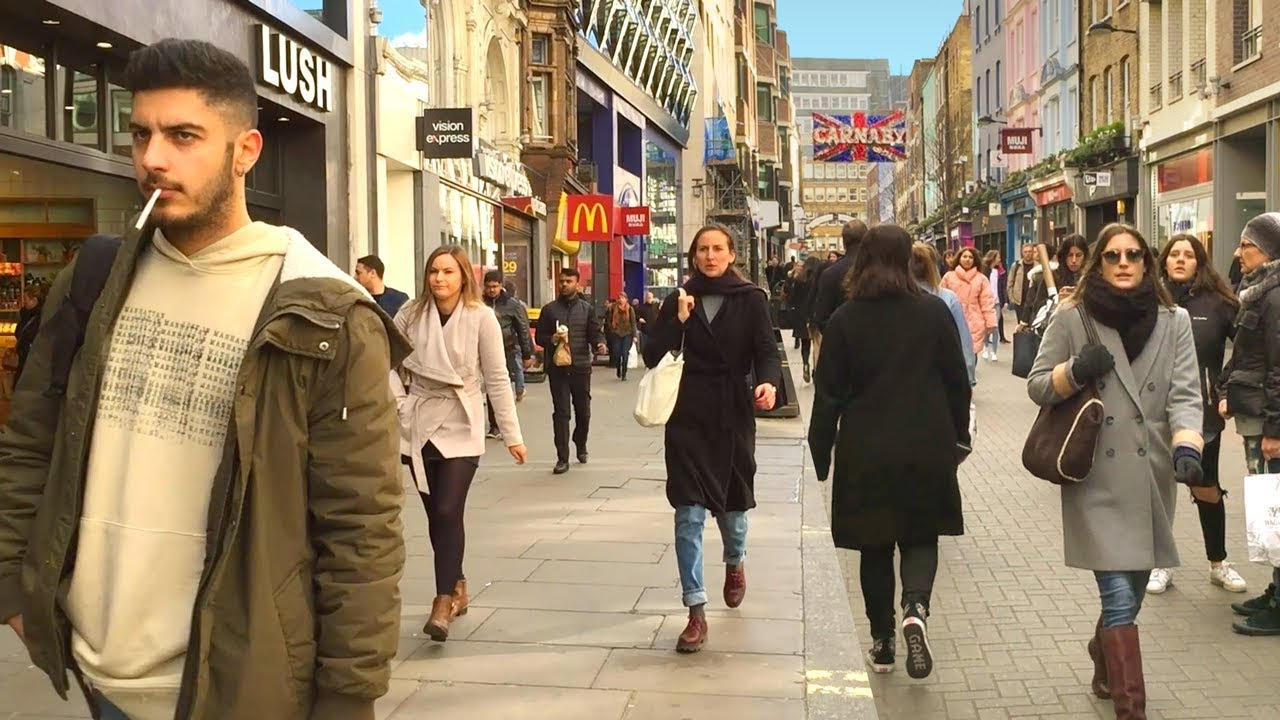without_mask: (131, 99, 232, 231), (1096, 234, 1146, 287), (692, 234, 735, 277), (426, 256, 467, 299), (1233, 235, 1270, 278), (1164, 241, 1198, 281), (1064, 243, 1087, 273), (559, 274, 577, 297), (483, 280, 501, 299), (960, 252, 977, 269), (1020, 244, 1033, 262)
